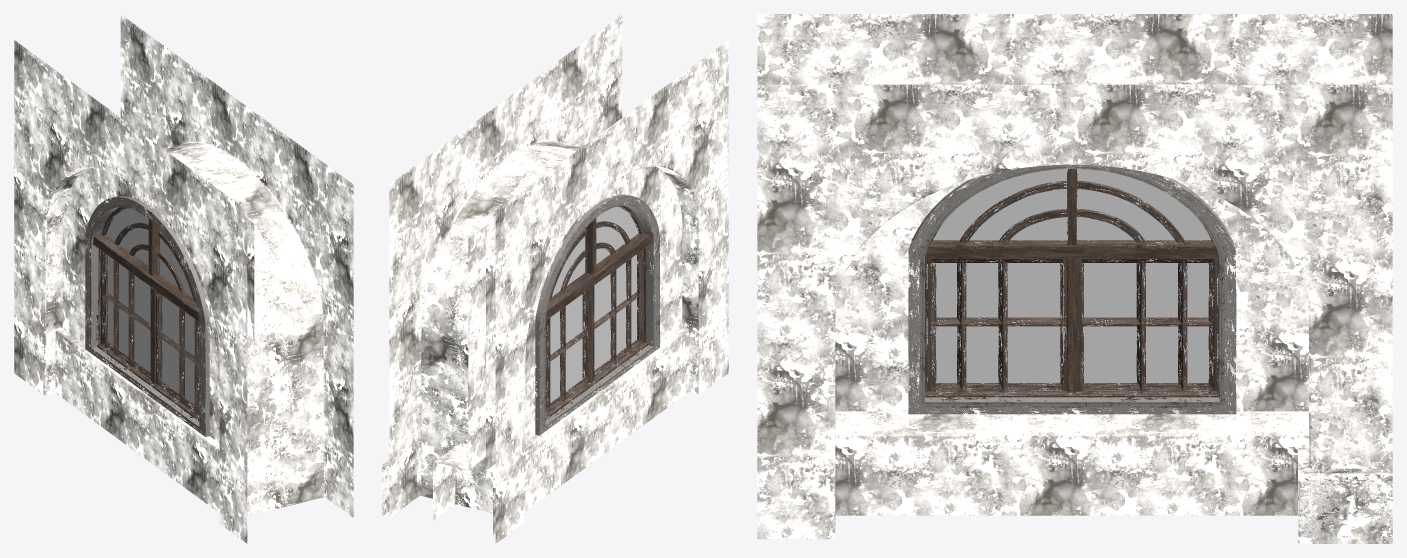
The picture shows the model from 3 angles, left to right: view 1: azimuth 30°, elevation 25°; view 2: azimuth 150°, elevation 25°; view 3: azimuth 270°, elevation 25°; orthographic projection. The views are drawn at different scales.
Parts seen in each view (by area): view 1: SM_wall_B_window_01_LOD0; view 2: SM_wall_B_window_01_LOD0; view 3: SM_wall_B_window_01_LOD0.
Part boxes in pixels (bbox=[...]): SM_wall_B_window_01_LOD0: bbox=[14, 14, 353, 543]; SM_wall_B_window_01_LOD0: bbox=[382, 14, 728, 543]; SM_wall_B_window_01_LOD0: bbox=[757, 14, 1392, 543].
Size of the model in its own units: 160 by 570 by 450.
5 materials, 4 textured.
